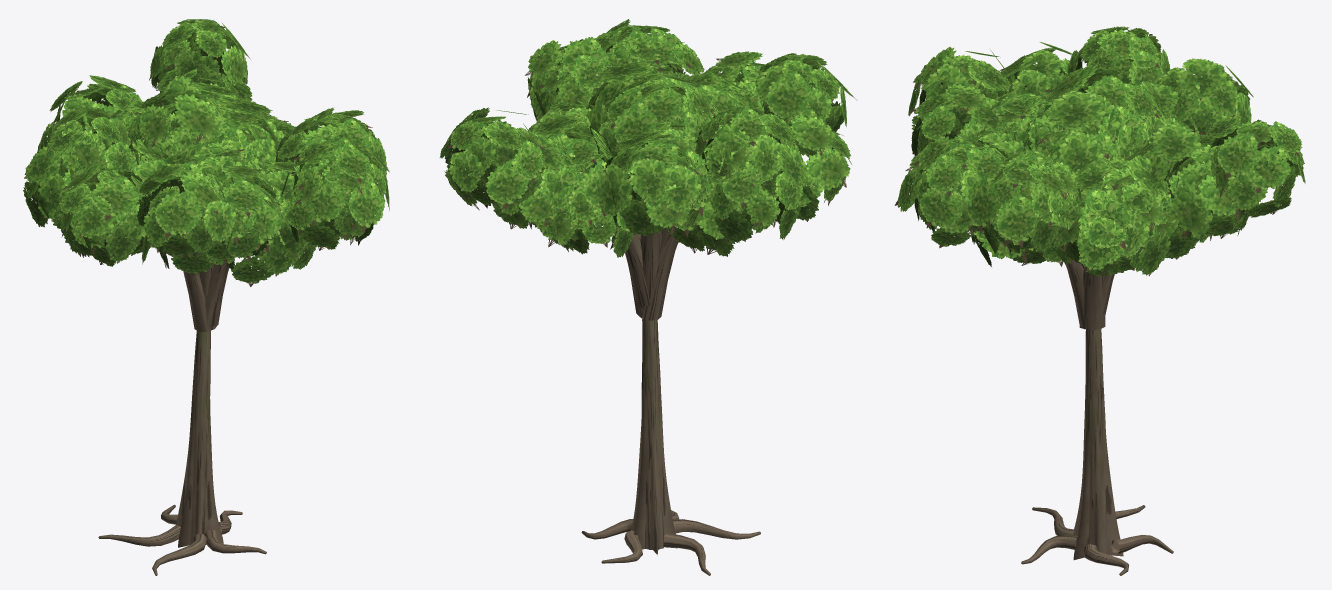
3 renders of one model, left to right at view 1: azimuth 30°, elevation 25°; view 2: azimuth 150°, elevation 25°; view 3: azimuth 270°, elevation 25°, orthographic. The views are drawn at different scales.
Parts seen in each view (by area): view 1: BigTree-forest-e; view 2: BigTree-forest-e; view 3: BigTree-forest-e.
Part boxes in pixels (box(x1,y1,x2,y2)): BigTree-forest-e: box(23, 19, 389, 575); BigTree-forest-e: box(440, 19, 857, 575); BigTree-forest-e: box(894, 26, 1305, 575).
Size of the model in its own units: 14.37 by 19.5 by 15.4.
Materials: 1 (1 with a texture image).
